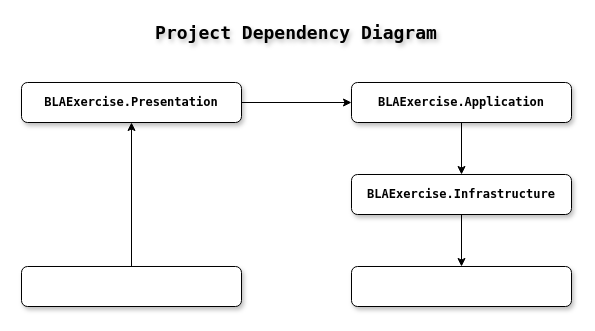
The diagram is 595 pixels wide and 331 high, and some of its shapes have lost their labels. Here are the shapes that lost their labels. From the top down, the centre of each, then its label:
At point (132, 288): "BLAExercise.Tests".
At point (462, 288): "BLAExercise.Domain".
